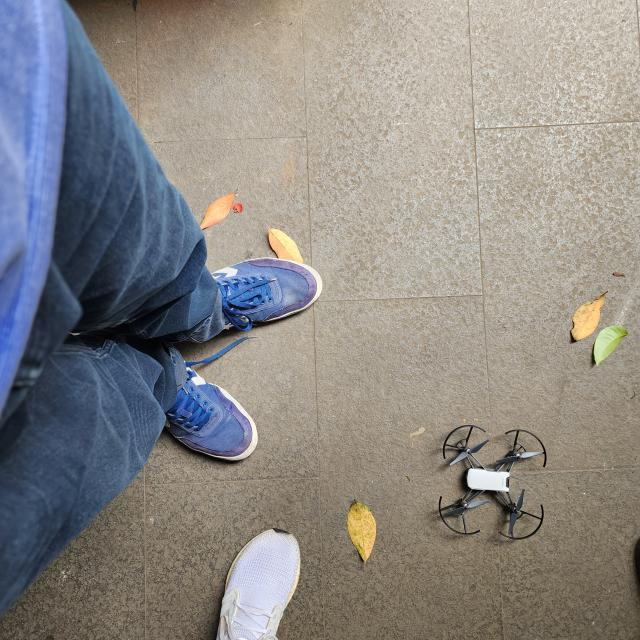drone: (439, 425, 547, 540)
